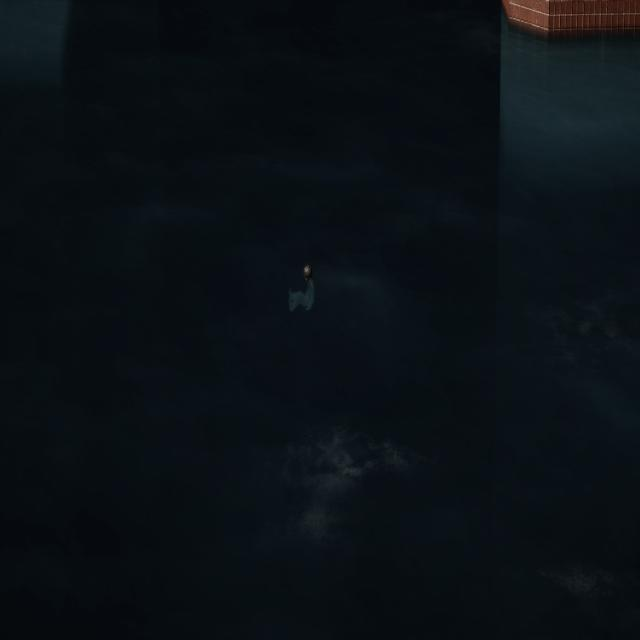Human: (285, 256, 319, 325)
